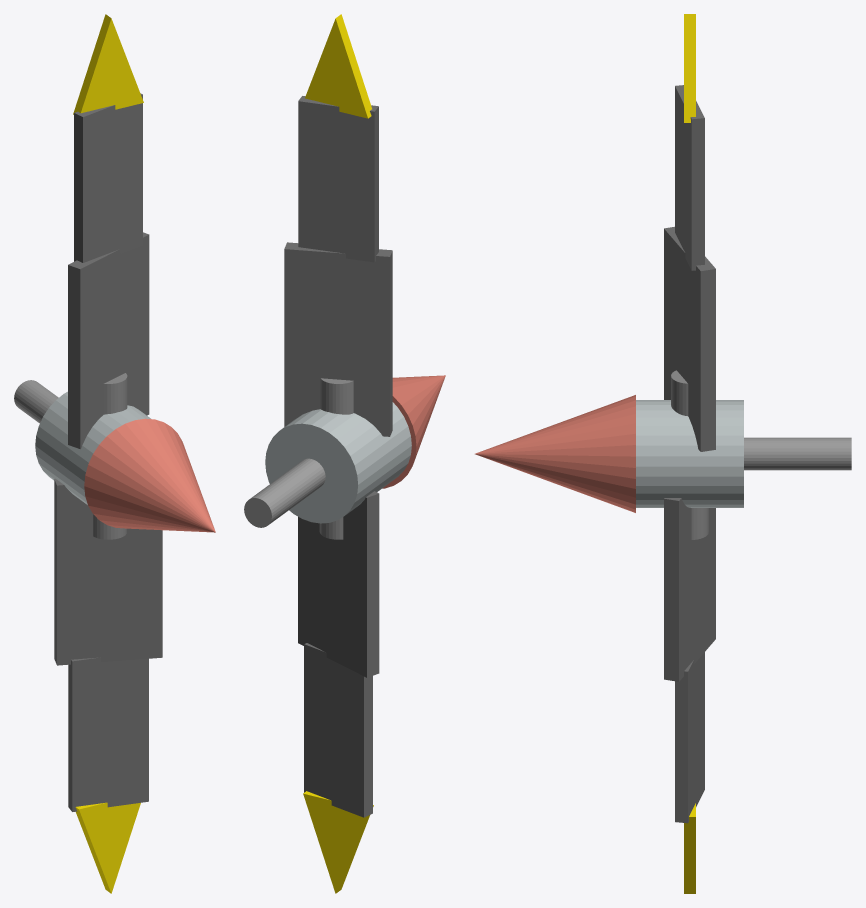
File: propeller.glb
The picture shows the model from 3 angles, left to right: view 1: azimuth 30°, elevation 25°; view 2: azimuth 150°, elevation 25°; view 3: azimuth 270°, elevation 25°; orthographic projection.
Visible parts, largest first — view 1: blade_bot_root, blade_top_root, blade_bot_mid, spinner, blade_top_mid, hub, blade_top_tip, blade_bot_tip, shaft, blade_top_shank, blade_bot_shank; view 2: blade_top_root, blade_top_mid, blade_bot_root, hub, blade_bot_mid, blade_top_tip, blade_bot_tip, shaft, spinner, blade_top_shank, blade_bot_shank; view 3: hub, spinner, blade_top_root, blade_bot_root, blade_top_mid, blade_bot_mid, shaft, blade_top_tip, blade_bot_tip.
Part boxes in pixels (x1,y1,x2,y2): blade_bot_root: (54,478,162,665); blade_top_root: (68,232,149,448); blade_bot_mid: (68,657,148,811); spinner: (84,418,215,532); blade_top_mid: (74,93,142,262); hub: (35,391,150,504); blade_top_tip: (73,14,143,114); blade_bot_tip: (75,802,140,893); shaft: (14,380,58,423); blade_top_shank: (103,373,127,414); blade_bot_shank: (93,514,126,539); blade_top_root: (284,242,392,436); blade_top_mid: (298,96,378,262); blade_bot_root: (298,491,379,677); hub: (265,402,411,523); blade_bot_mid: (304,643,372,817); blade_top_tip: (305,14,371,118); blade_bot_tip: (303,791,373,893); shaft: (244,458,325,527); spinner: (382,375,445,488); blade_top_shank: (320,378,353,414); blade_bot_shank: (319,517,343,539); hub: (636,400,743,507); spinner: (475,395,635,512); blade_top_root: (664,226,715,451); blade_bot_root: (664,498,715,681); blade_top_mid: (675,85,704,270); blade_bot_mid: (675,652,704,823); shaft: (744,437,851,470); blade_top_tip: (684,14,695,122); blade_bot_tip: (684,803,695,893).
Size of the model in its own units: 0.22 by 1.8 by 0.7.
